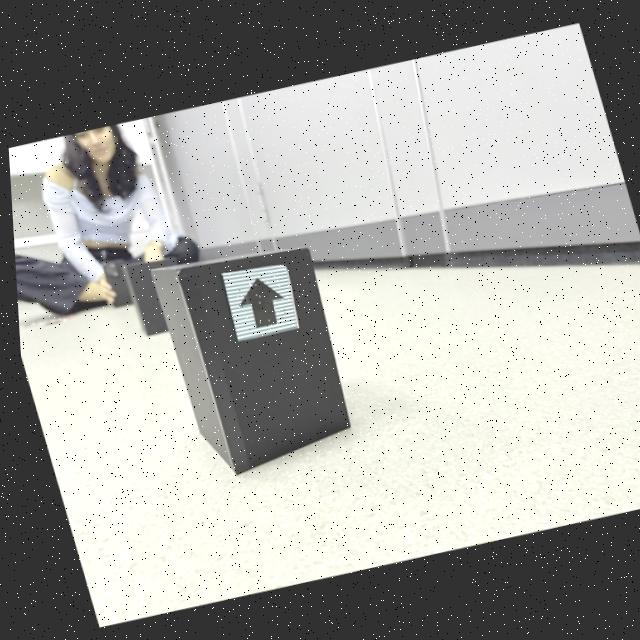UP: (234, 277, 280, 327)
